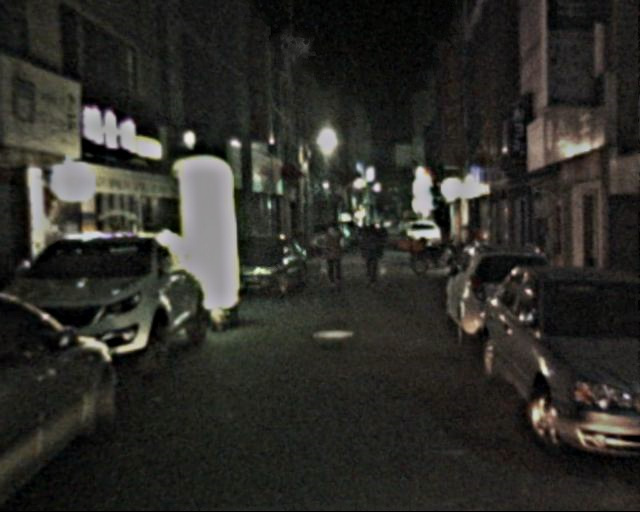person: (318, 225, 346, 294), (357, 223, 385, 291)
